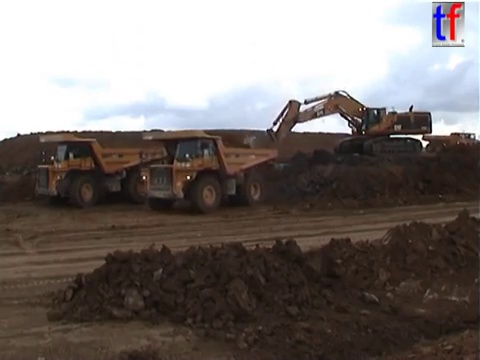excavator: (241, 88, 435, 165)
truck: (138, 129, 279, 213), (34, 132, 172, 207), (421, 130, 480, 154)
